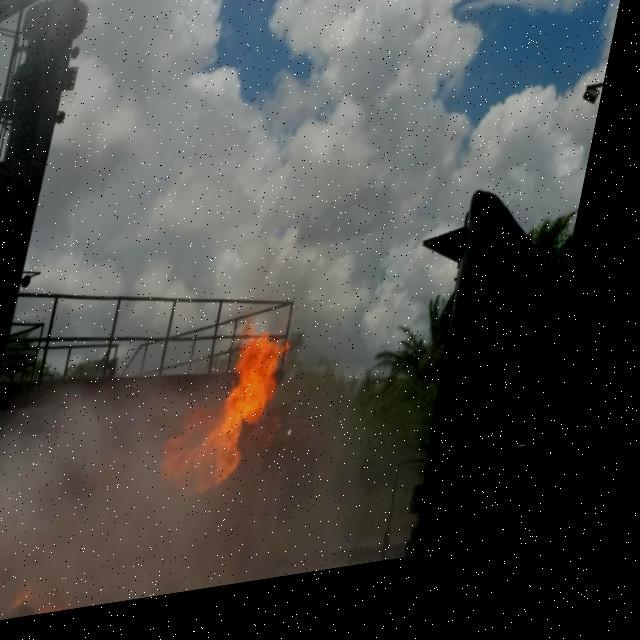Fire: (173, 321, 311, 516), (0, 532, 82, 639)
